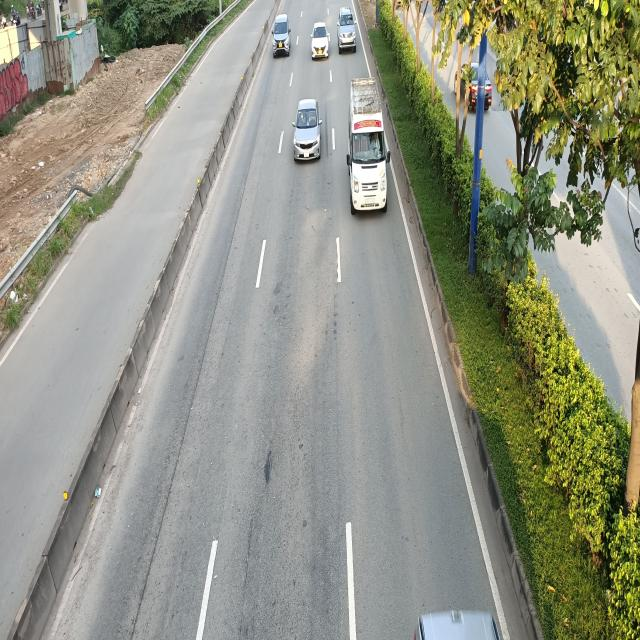car: (291, 99, 320, 162), (339, 7, 358, 54), (272, 15, 292, 58), (310, 21, 330, 59)
van: (345, 78, 390, 217)
